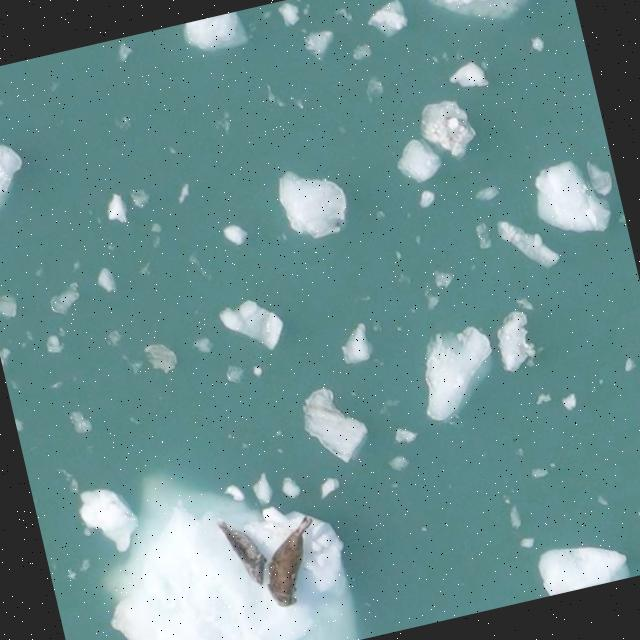seal: (259, 507, 314, 607), (211, 508, 279, 588)
